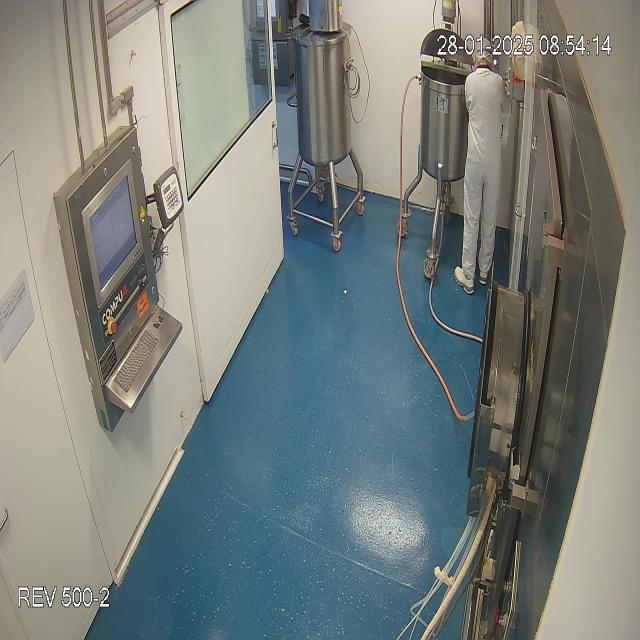bota: (450, 260, 490, 296)
pessoa: (453, 35, 511, 296)
touca: (469, 35, 495, 72)
